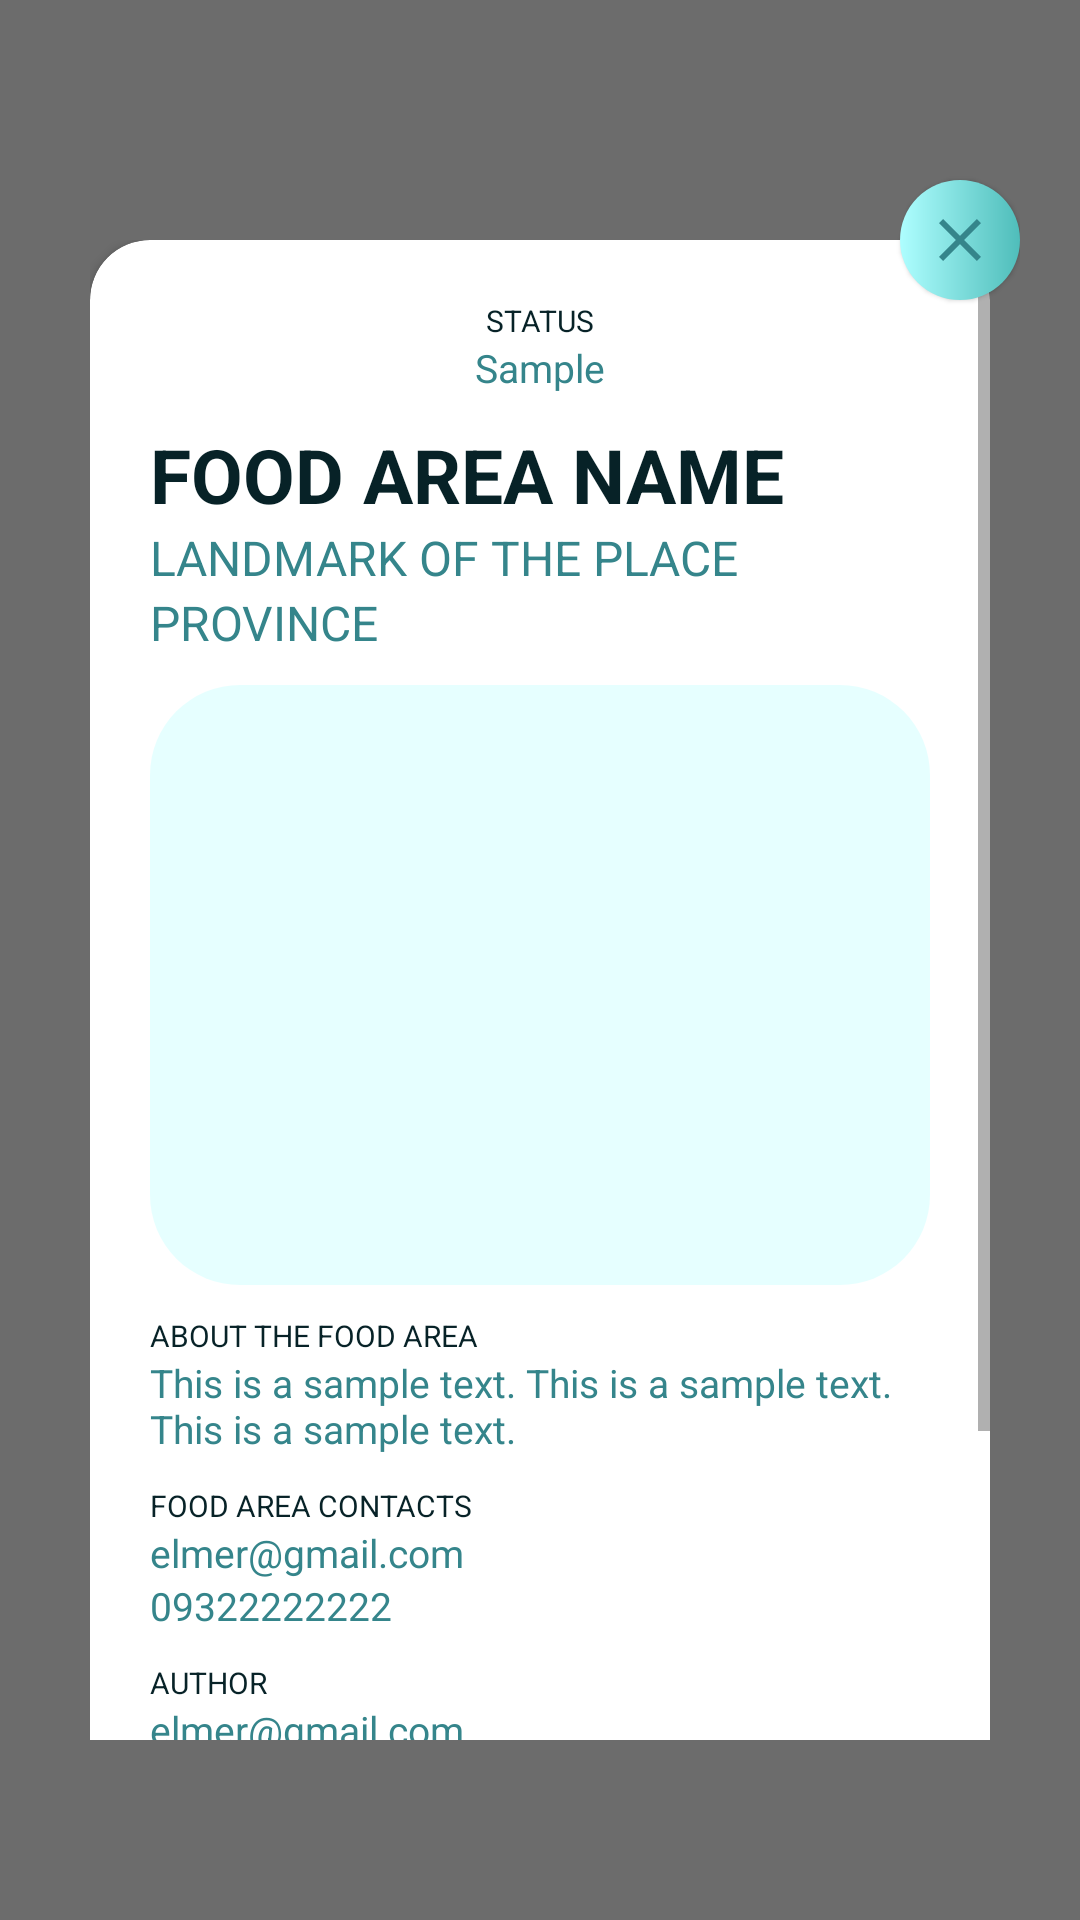

Icons on this 1080 x 1920 Android screen, each with its box as (x1, y1, x2, y2):
close: (900, 180, 1020, 300)
